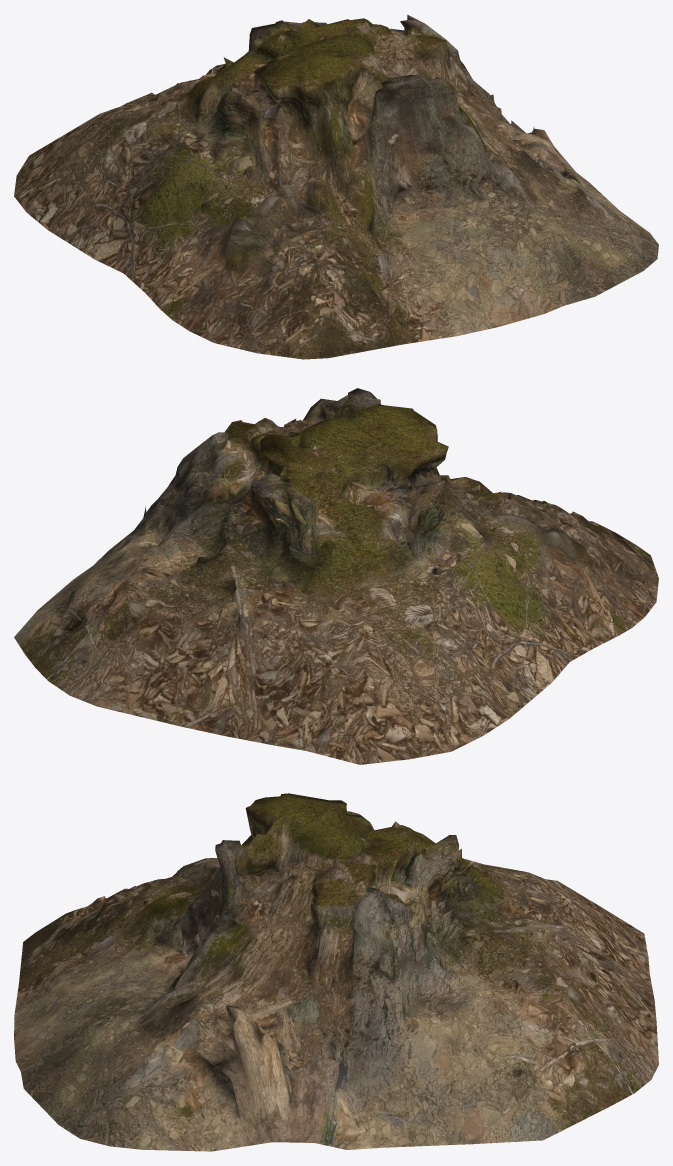
File: tree_stump_01.glb
The picture shows the model from 3 angles, top to bottom: view 1: azimuth 30°, elevation 25°; view 2: azimuth 150°, elevation 25°; view 3: azimuth 270°, elevation 25°; orthographic projection. The views are drawn at different scales.
Visible parts, largest first — view 1: tree_stump_01_lod0; view 2: tree_stump_01_lod0; view 3: tree_stump_01_lod0.
Part boxes in pixels (box(x1,y1,x2,y2)): tree_stump_01_lod0: box(14, 14, 658, 359); tree_stump_01_lod0: box(14, 388, 658, 764); tree_stump_01_lod0: box(14, 793, 658, 1151).
Size of what is drawn, in the model's own units: 1.43 by 0.571 by 1.59.
Materials: 1 (1 with a texture image).
